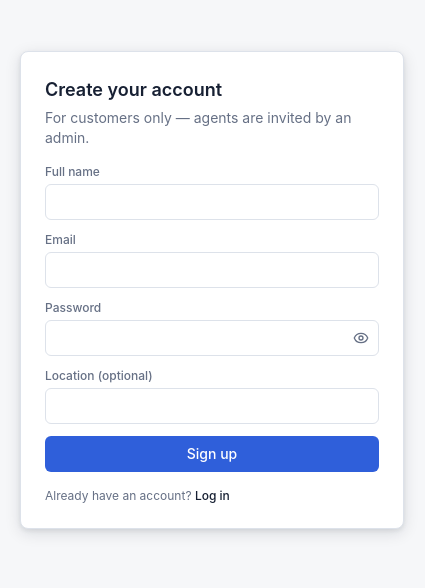
Test: SignupPage › shows an error when signup fails (e.g. duplicate email)
Type "Jane Doe" into the field labelled "Full name".
click(212, 202); type("Jane Doe")  # box [45, 184, 379, 220]
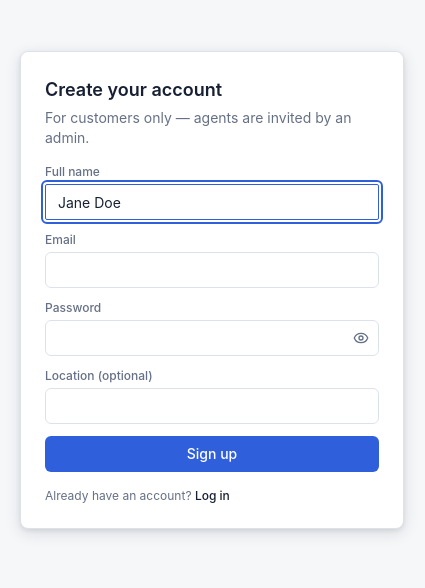
Type "jane@example.com" into the field labelled "Email".
click(212, 270); type("jane@example.com")  # box [45, 252, 379, 288]
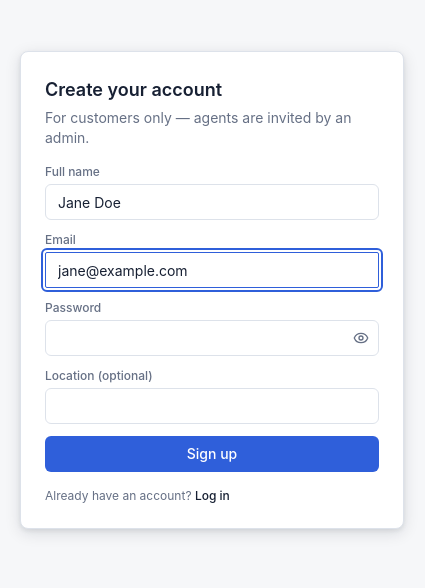
Type "SignupPass123" into the password field labelled "Password".
click(212, 338); type("SignupPass123")  # box [45, 320, 379, 356]
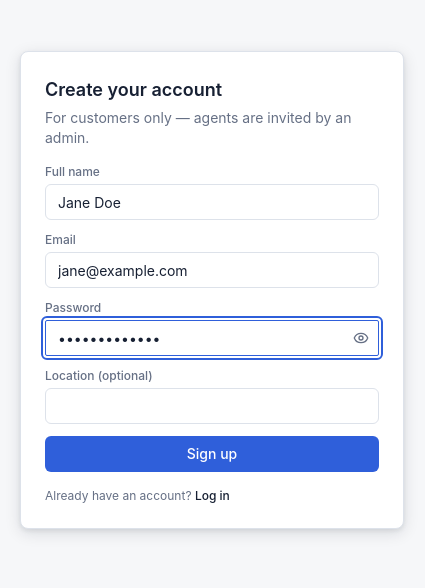
Click the button "Sign up".
click(212, 454)  # box [45, 436, 379, 472]
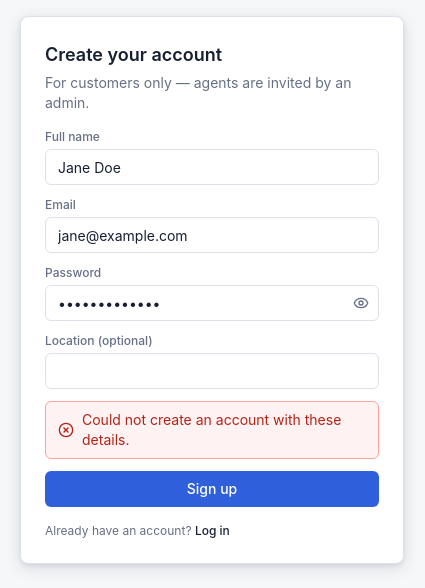
Check: the message reads "Could not create an account with these details.", box [82, 411, 341, 448]
